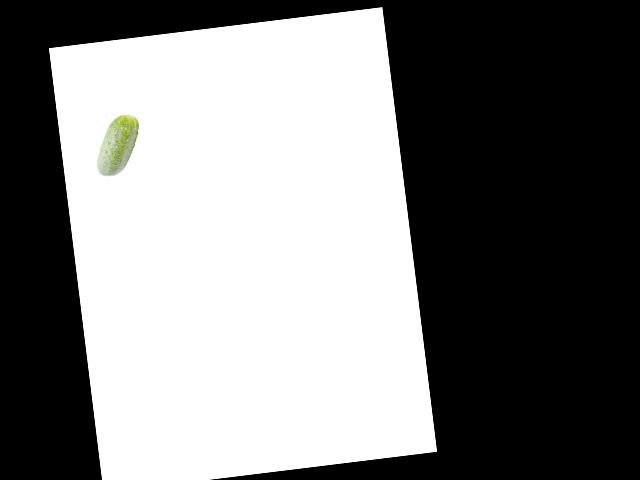cucumber: (91, 113, 144, 178)
